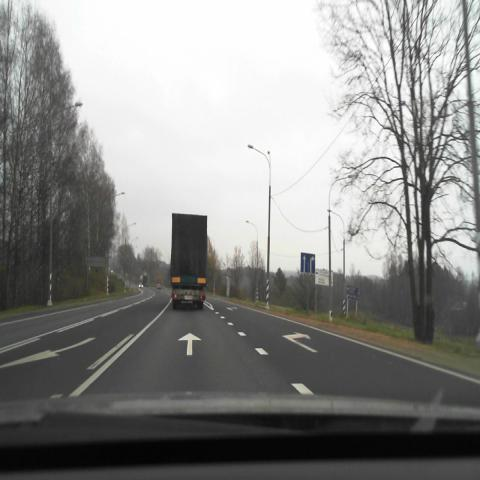5_15_2_2: (300, 252, 315, 273)
